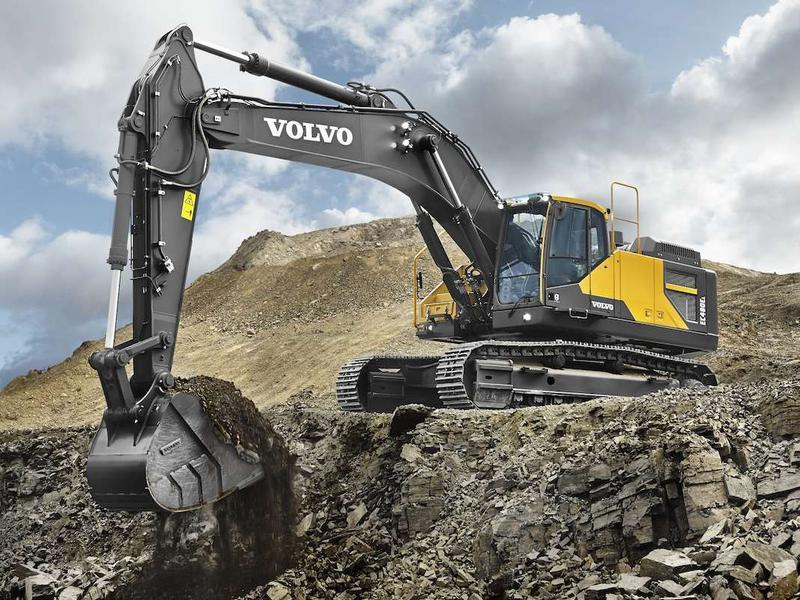shovel: (71, 20, 727, 511)
